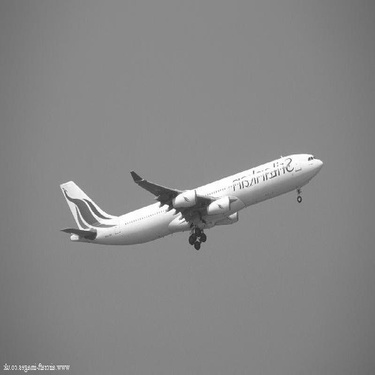airplane: (49, 147, 328, 253)
